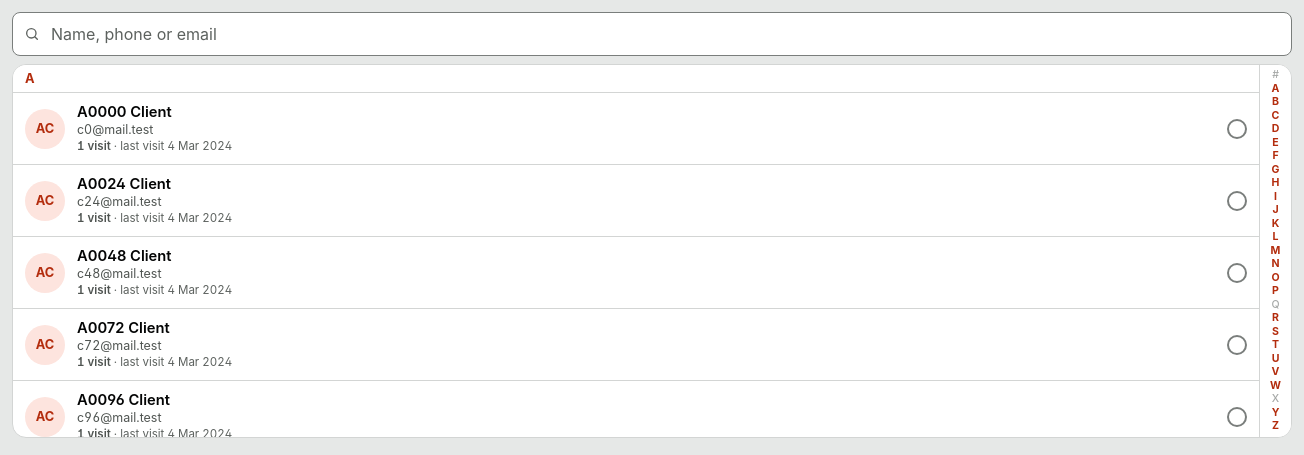
ClientPicker with a large roster › dragging along the rail jumps letter by letter
Press the mouse on the button with test id "appt-client-letter-A": (1276, 89) [1260, 82, 1291, 96]
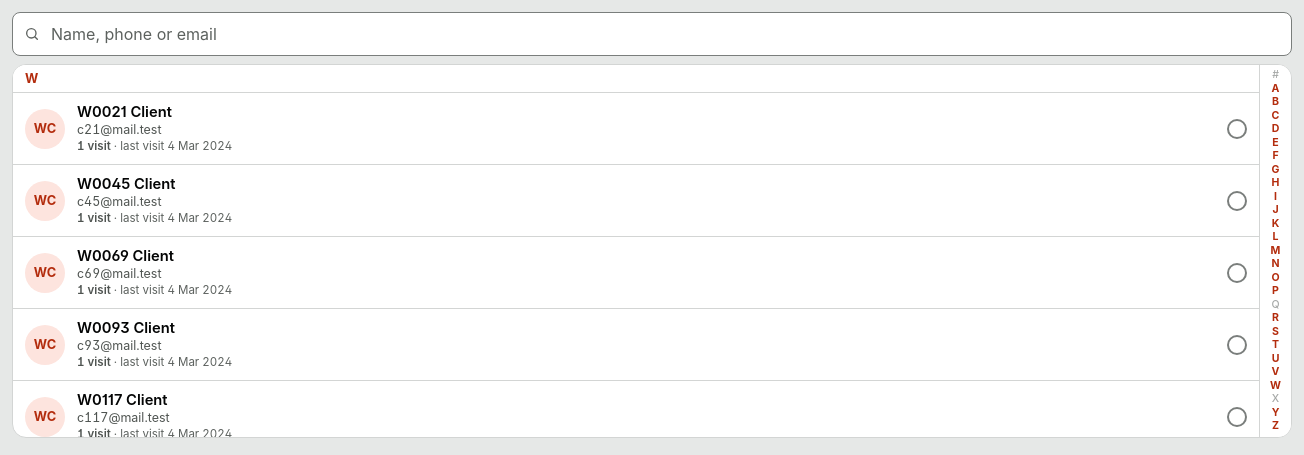
Expected: the text "W0021 Client" is shown, [77, 103, 172, 121]
